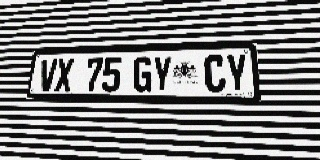5: (102, 57, 122, 92)
7: (84, 58, 104, 92)
C: (204, 55, 226, 92)
G: (133, 56, 153, 92)
V: (38, 59, 58, 92)
X: (54, 58, 74, 92)
Y: (225, 54, 249, 92), (152, 56, 172, 92)
